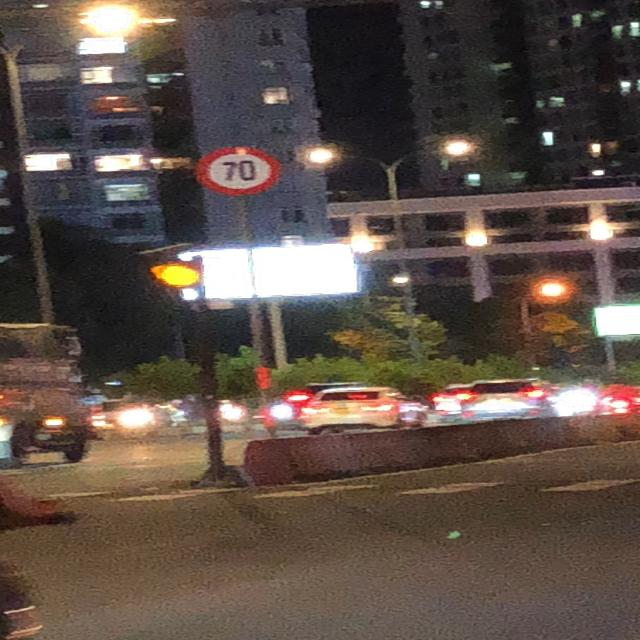Bien bao toc do toi da cho phep: (190, 143, 280, 199)
